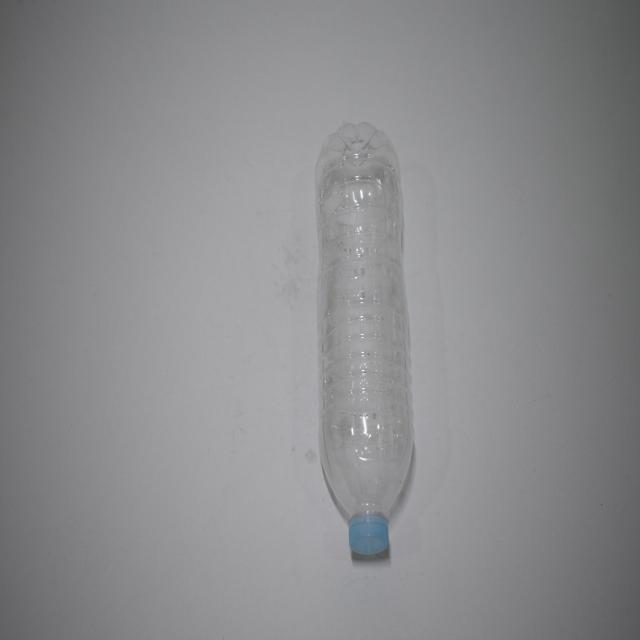empty: (316, 122, 414, 555)
